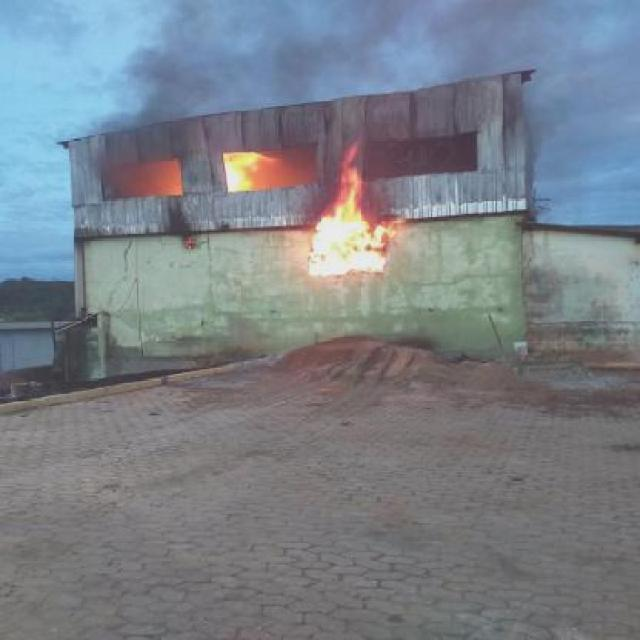Fire: (312, 222, 381, 276), (220, 152, 286, 191), (112, 166, 186, 199), (334, 143, 366, 217), (382, 217, 405, 240)
Smoke: (132, 48, 195, 164)
